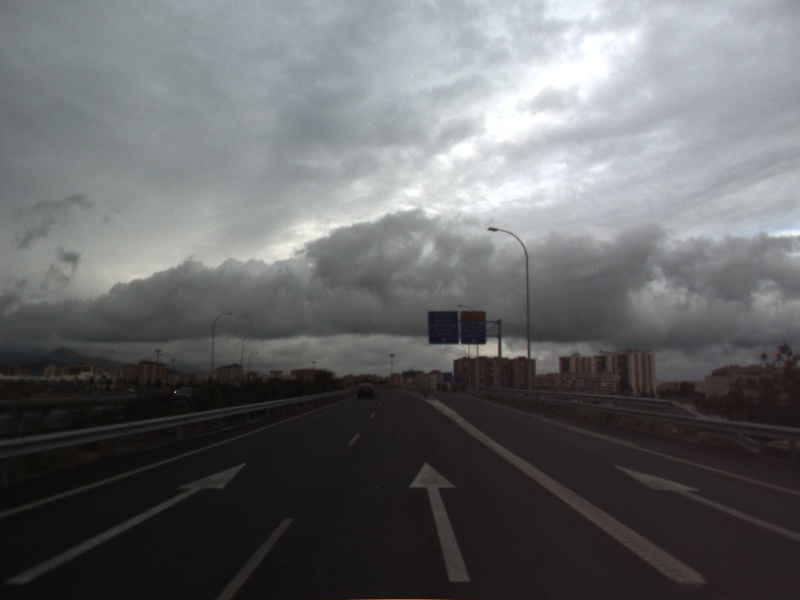STRAIGHT: (1, 459, 251, 587), (608, 461, 800, 540), (405, 457, 474, 585)
